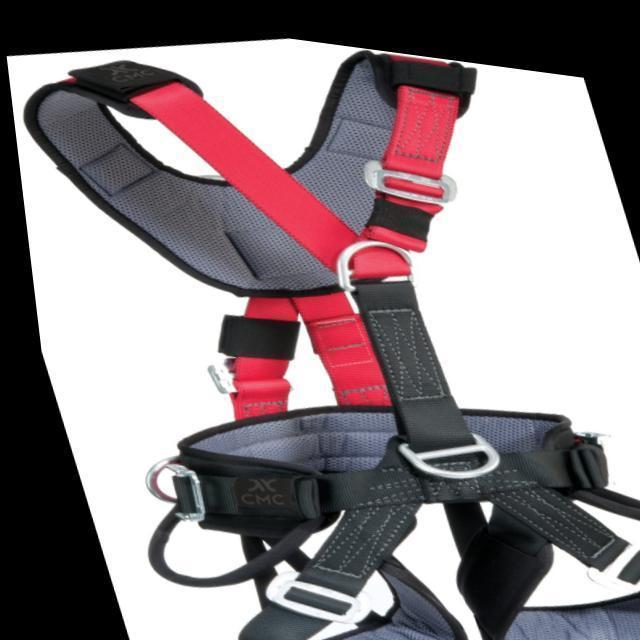Harness: (24, 51, 640, 640)
